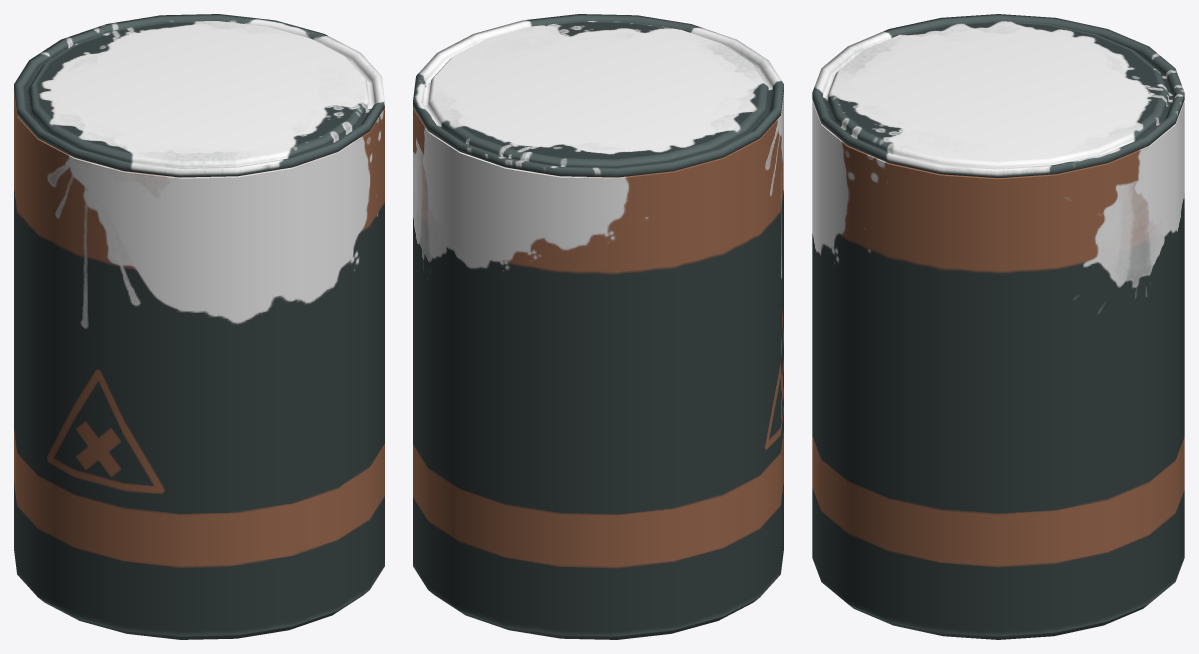
The model's file is Paint_Bucket_03.fbx.
The picture shows the model from 3 angles, left to right: view 1: azimuth 30°, elevation 25°; view 2: azimuth 150°, elevation 25°; view 3: azimuth 270°, elevation 25°; orthographic projection.
Parts seen in each view (by area): view 1: Bucket, Cover; view 2: Bucket, Cover; view 3: Bucket, Cover.
Part boxes in pixels (x1=…): Bucket: x1=14, y1=92, x2=384, y2=639; Cover: x1=14, y1=14, x2=384, y2=177; Bucket: x1=413, y1=92, x2=783, y2=639; Cover: x1=413, y1=14, x2=783, y2=177; Bucket: x1=812, y1=100, x2=1184, y2=639; Cover: x1=812, y1=14, x2=1184, y2=177.
Size of what is drawn, in the model's own units: 22.58 by 31.65 by 22.58.
2 materials, 1 textured.
